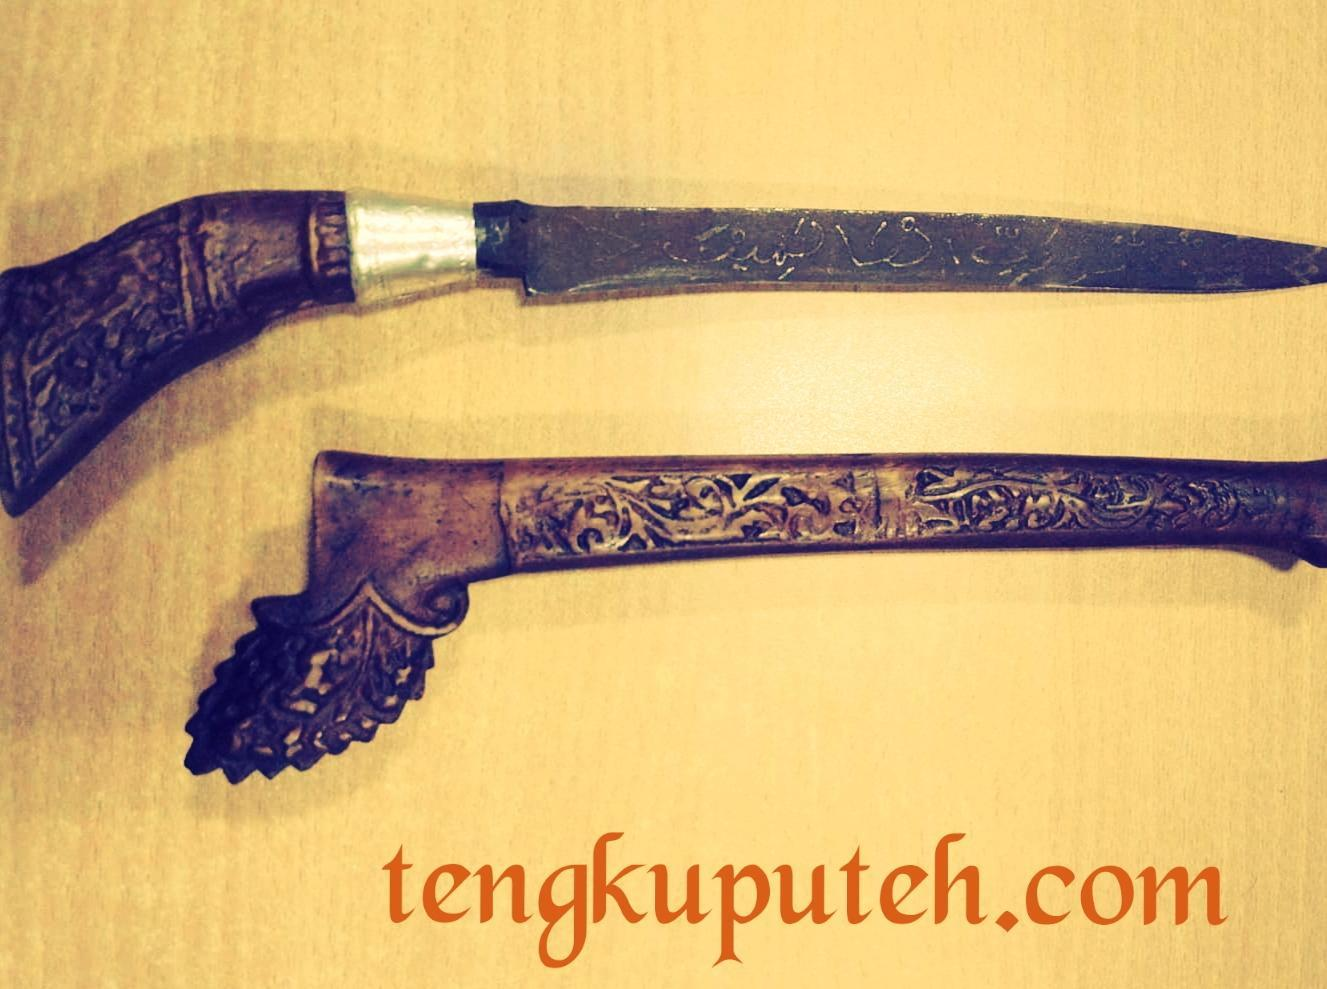espada: (174, 391, 1327, 802), (0, 134, 1327, 463)
